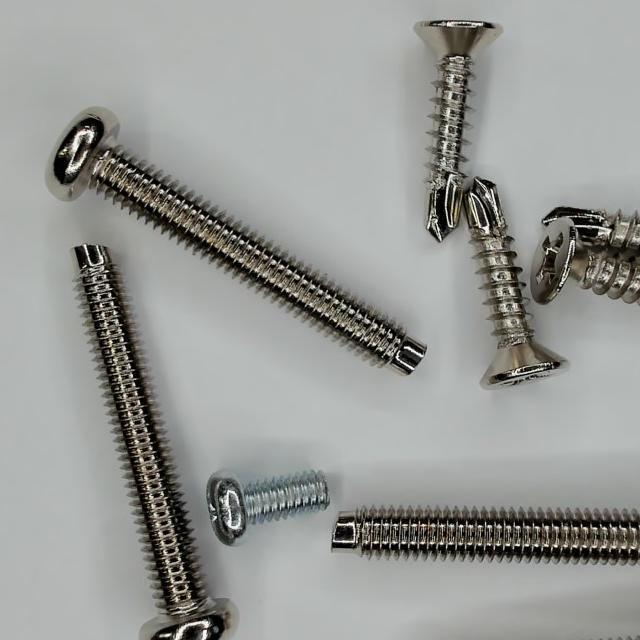Screw: (46, 107, 427, 374), (74, 246, 235, 640), (464, 177, 568, 388), (415, 20, 503, 242), (333, 508, 640, 566), (532, 217, 640, 304), (206, 472, 330, 546), (543, 206, 640, 250)
